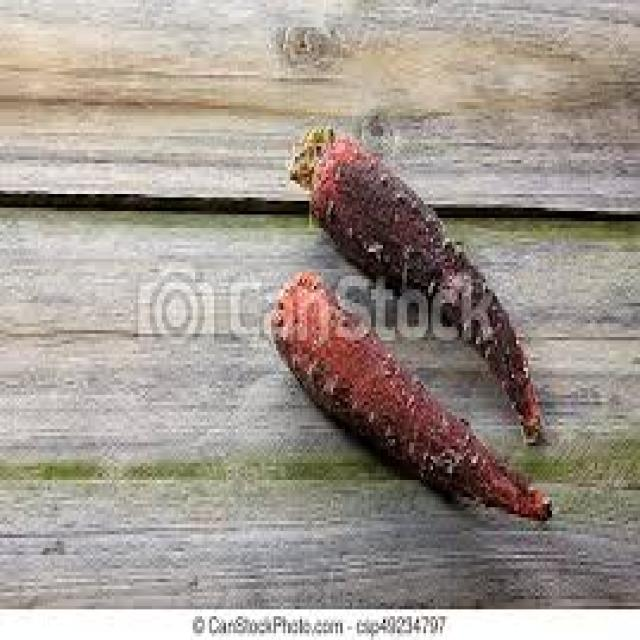Stale_Carrot: (314, 123, 549, 426), (280, 260, 544, 511)
